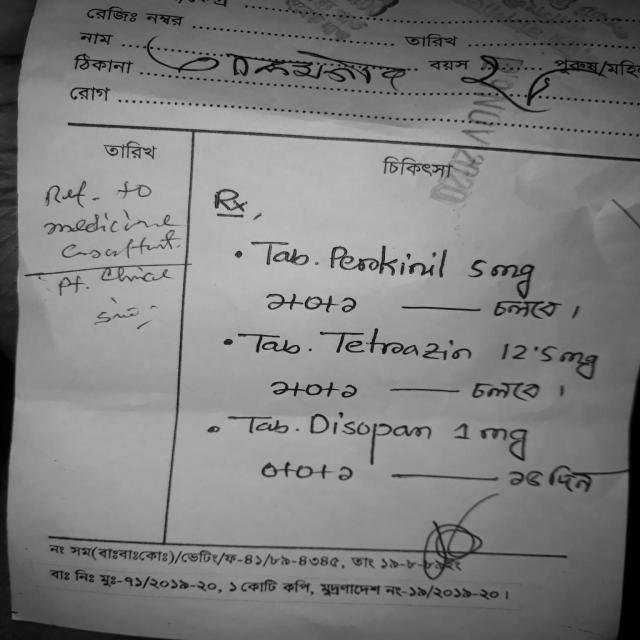Disopen: (305, 406, 435, 449)
Perkinil: (322, 220, 456, 284)
Tetrazin: (318, 322, 477, 375)
